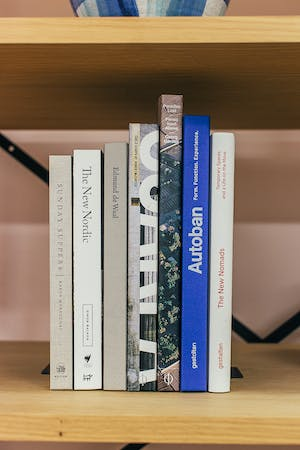book: (127, 119, 160, 396), (72, 145, 104, 393), (183, 111, 210, 392), (158, 91, 183, 394), (46, 149, 75, 393), (102, 140, 129, 394), (211, 128, 234, 398)
